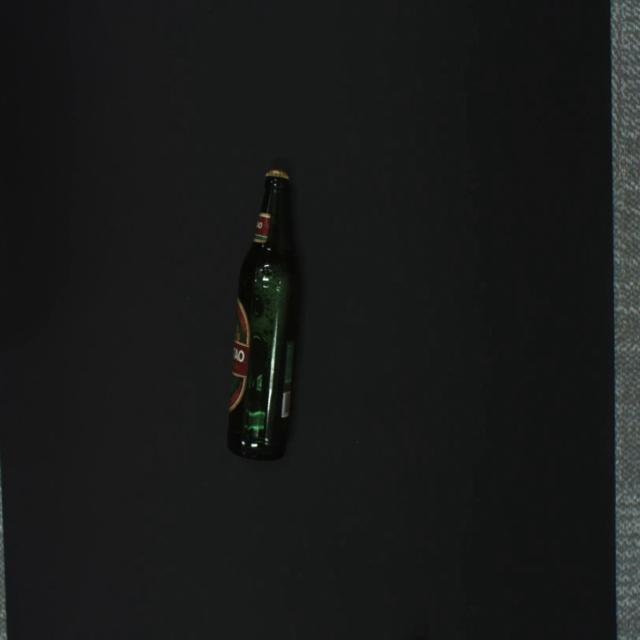beer-bottle: (227, 169, 300, 461)
